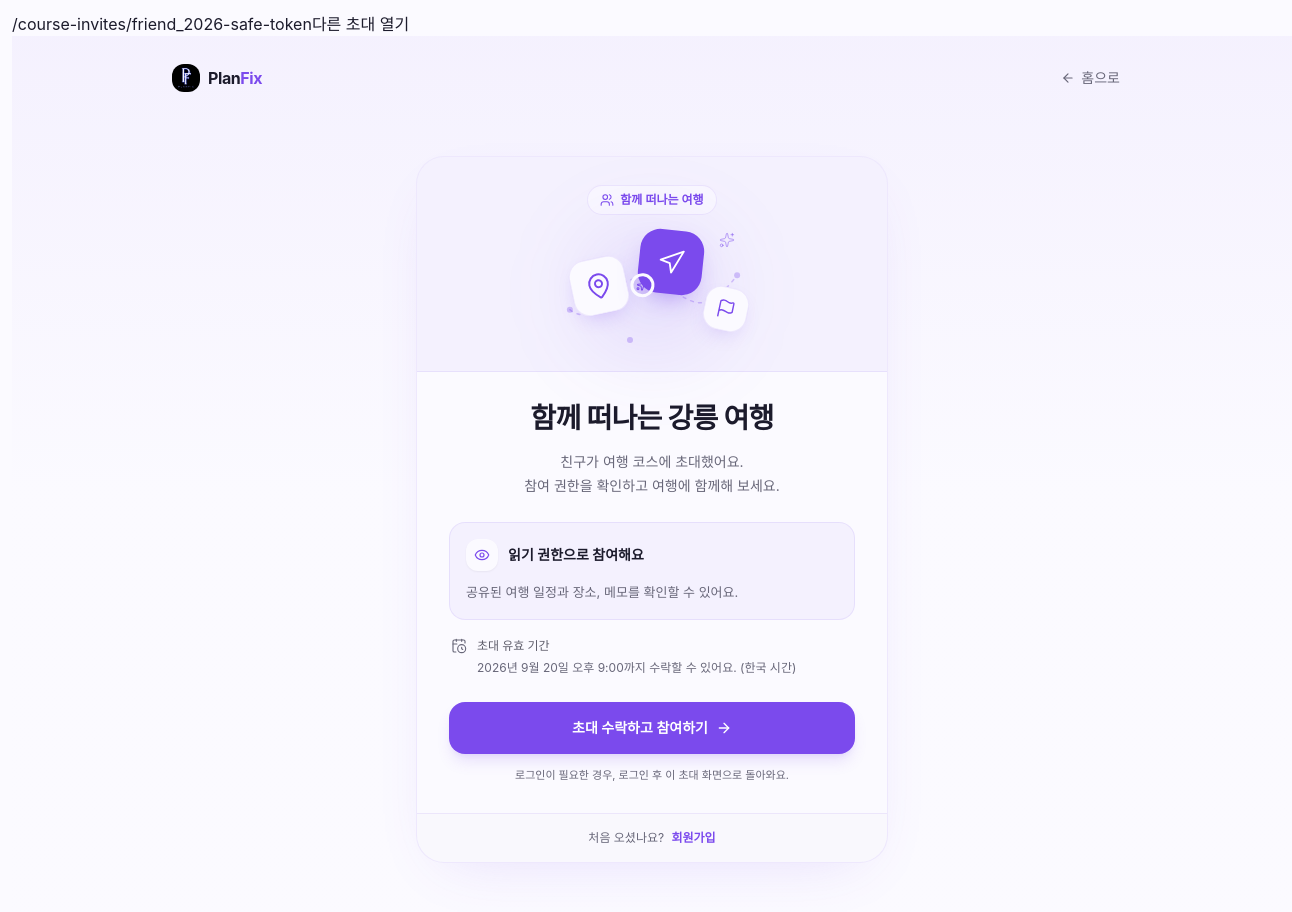
Test: CourseInvitePage › 새 참여 수락 결과는 해당 코스로 이동한다
The width and height of the screenshot is (1292, 912).
Click the button "초대 수락하고 참여하기".
click(652, 728)  # box [449,702,855,754]
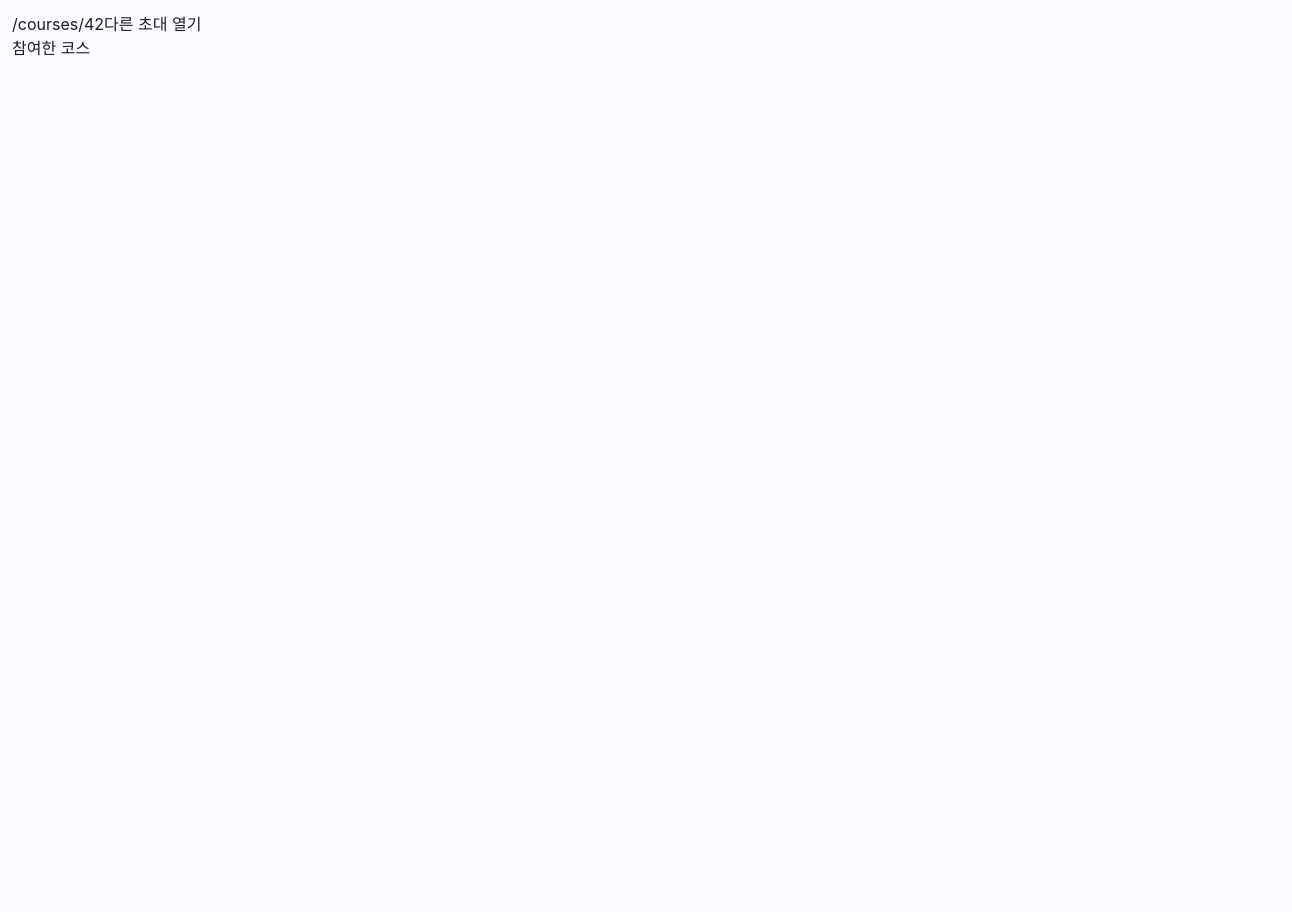
Expected: the heading "참여한 코스" is shown, [12,38,90,58]
Expected: the text named "현재 경로" reads "/courses/42", [12,14,104,34]
